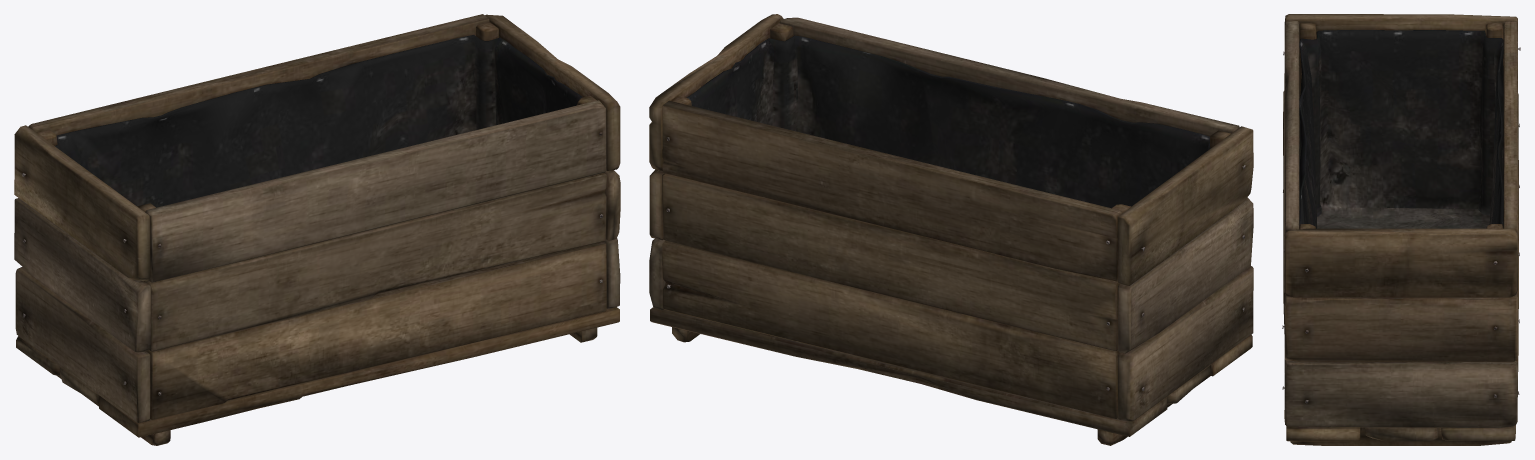
Rendered from planter_box_01.fbx.
The picture shows the model from 3 angles, left to right: view 1: azimuth 30°, elevation 25°; view 2: azimuth 150°, elevation 25°; view 3: azimuth 270°, elevation 25°; orthographic projection. The views are drawn at different scales.
Parts seen in each view (by area): view 1: planter_box_01_LOD0; view 2: planter_box_01_LOD0; view 3: planter_box_01_LOD0.
Boxes of the visible parts, box(x1,y1,x2,y2) form: planter_box_01_LOD0: box(14, 14, 620, 445); planter_box_01_LOD0: box(649, 14, 1253, 445); planter_box_01_LOD0: box(1282, 14, 1520, 445).
Size of what is drawn, in the model's own units: 91.26 by 42.49 by 41.34.
1 material, 1 textured.
